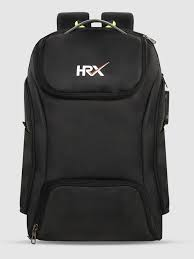backpack: (19, 11, 170, 243)
